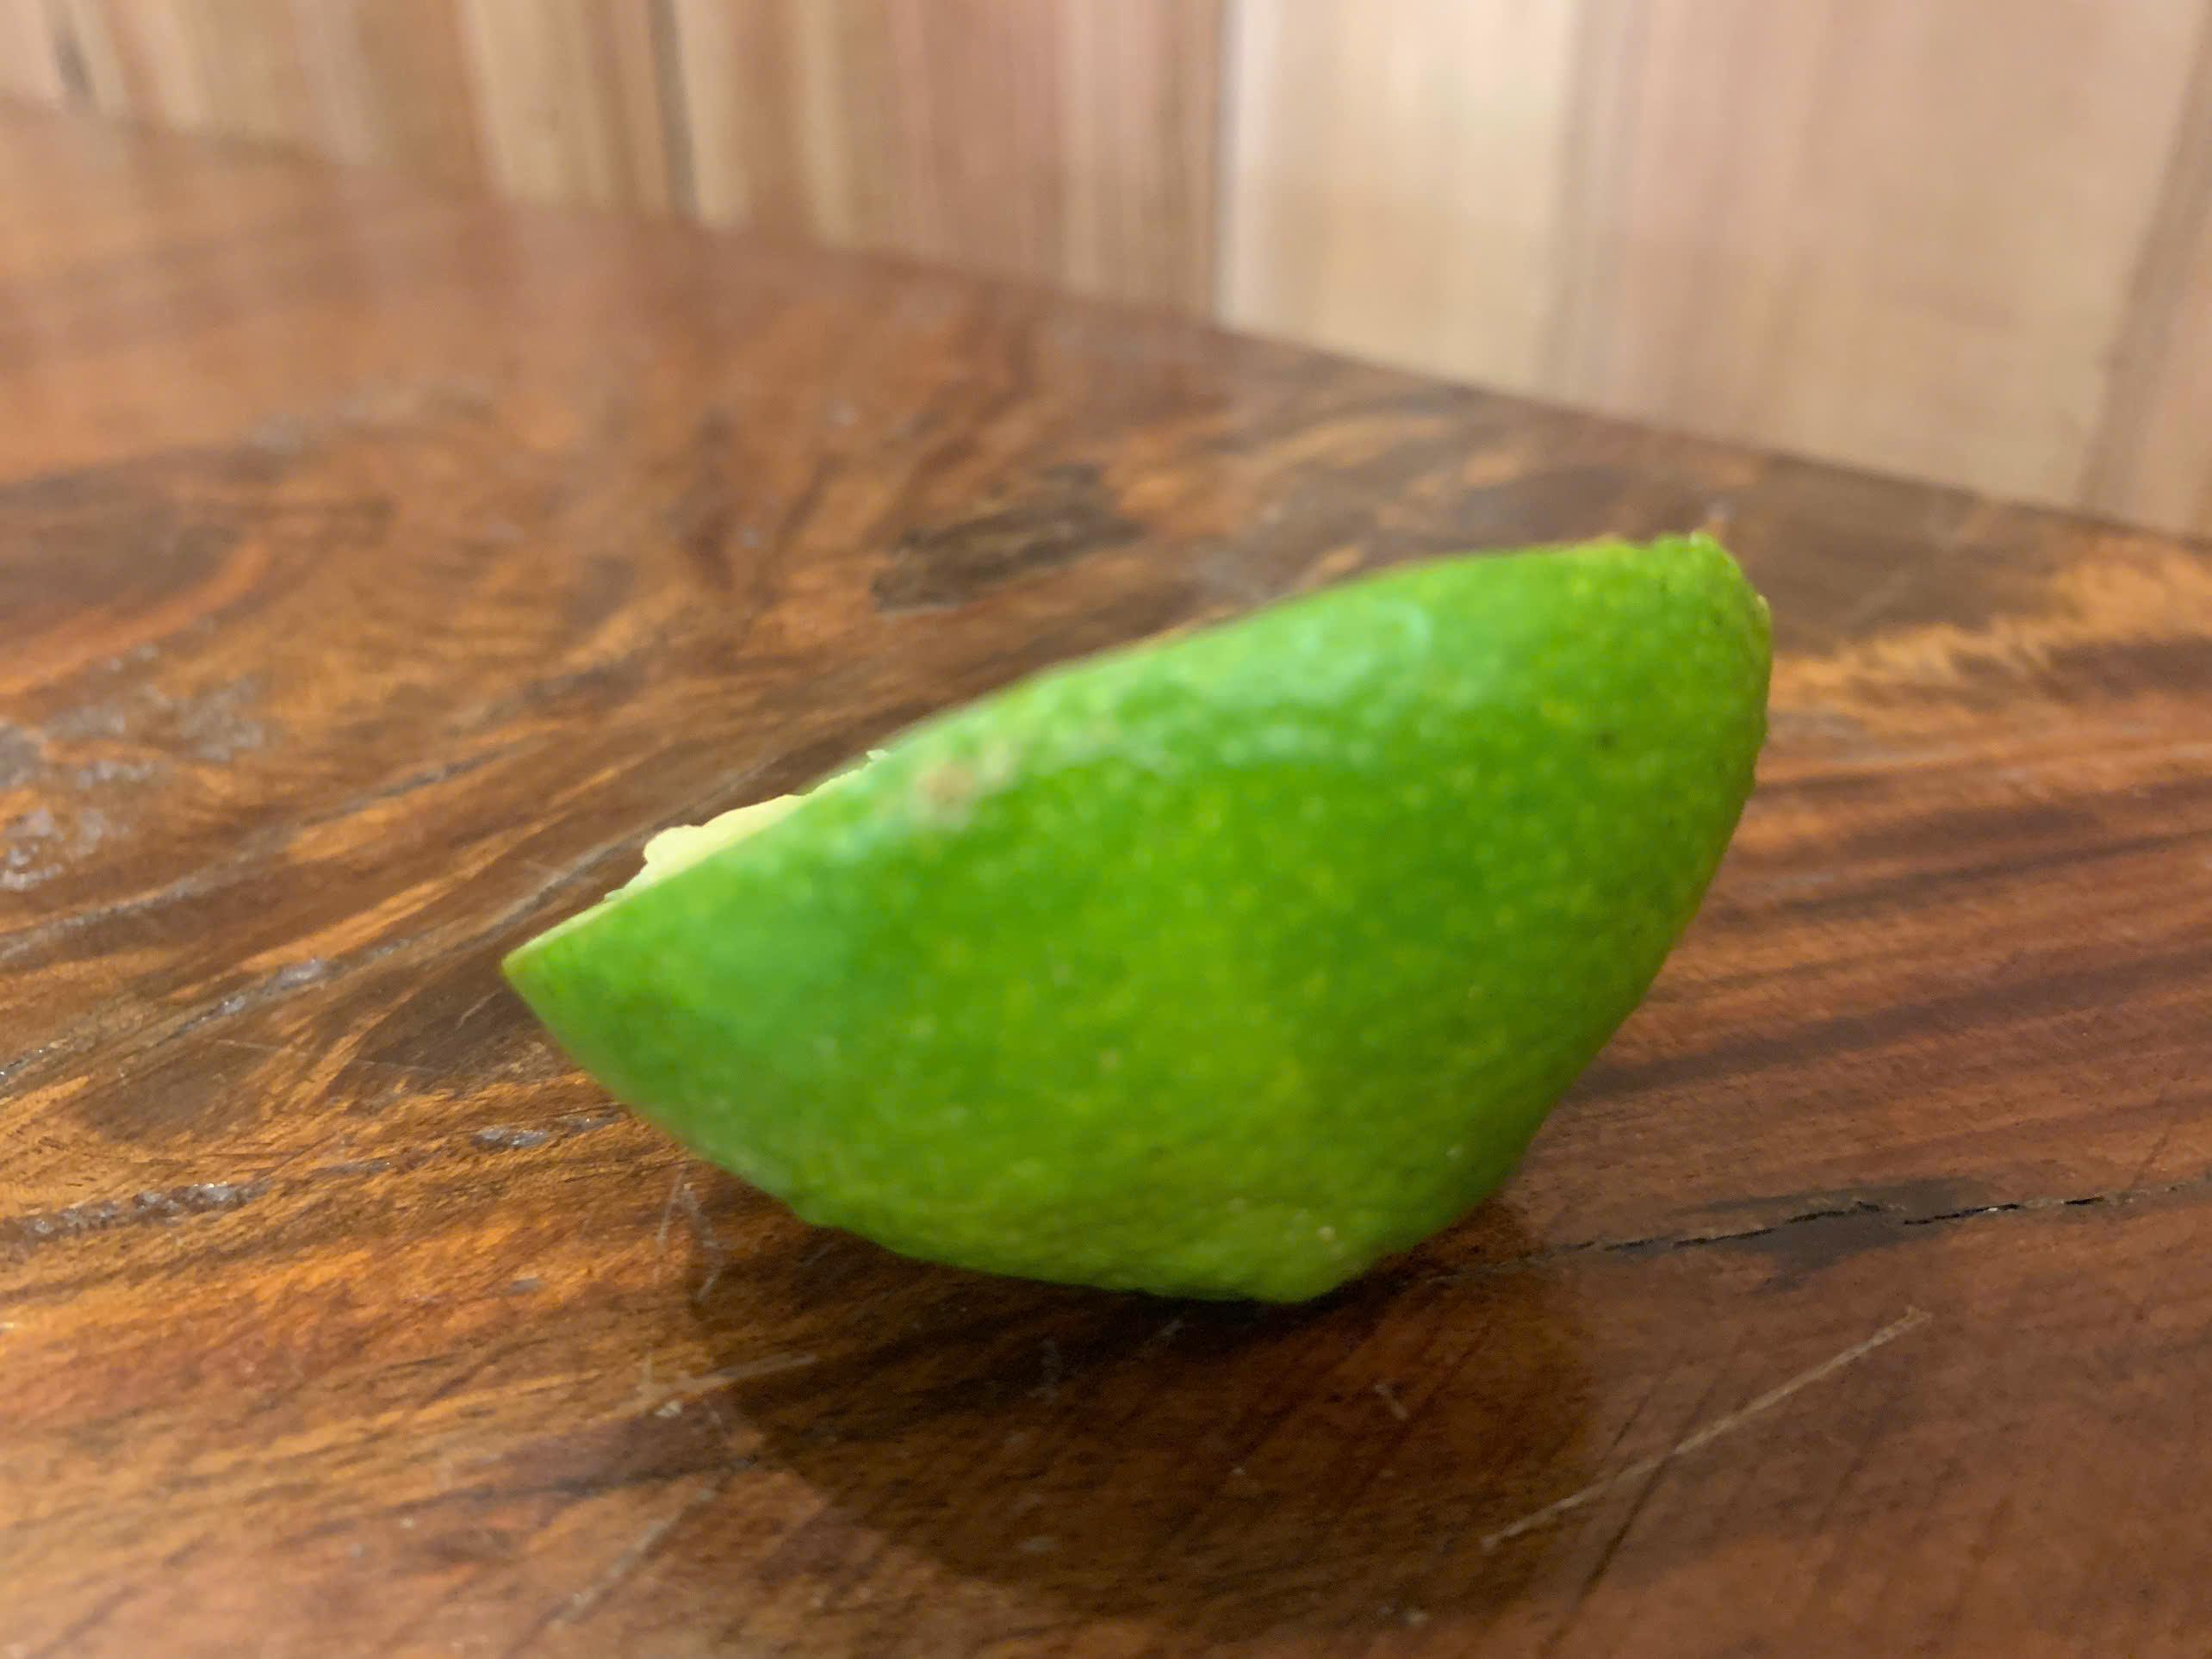Huu co: (509, 526, 1766, 1305)
